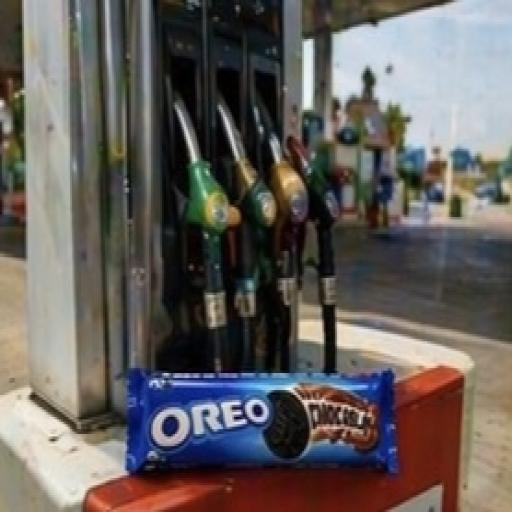oreo: (98, 332, 430, 506)
